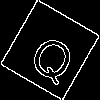Q: (25, 25, 83, 88)
